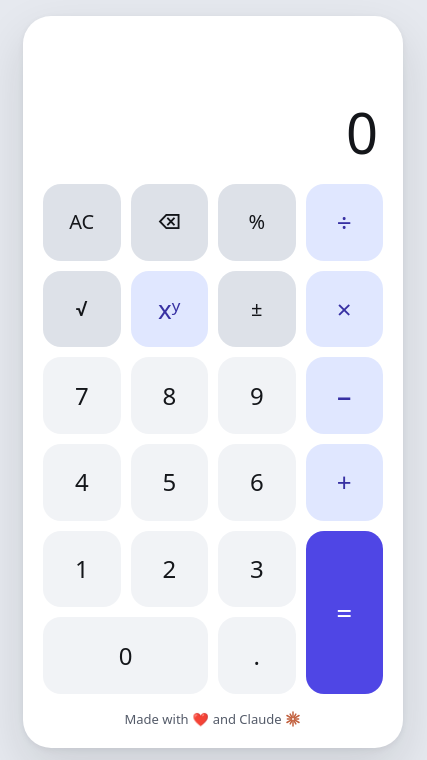
Calculator › 2 + 3 × 4 = gives {}
The width and height of the screenshot is (427, 760).
Click the button "2" at (169, 569), box 130,531 -> 208,607
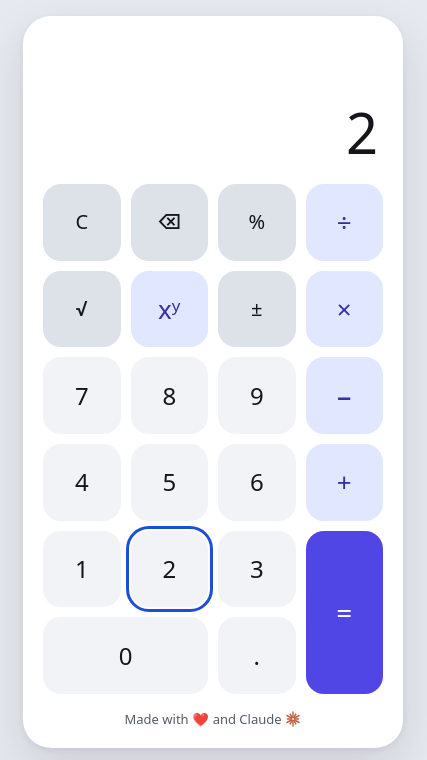
Click the button named "add" at (344, 482), box 306,444 -> 383,521
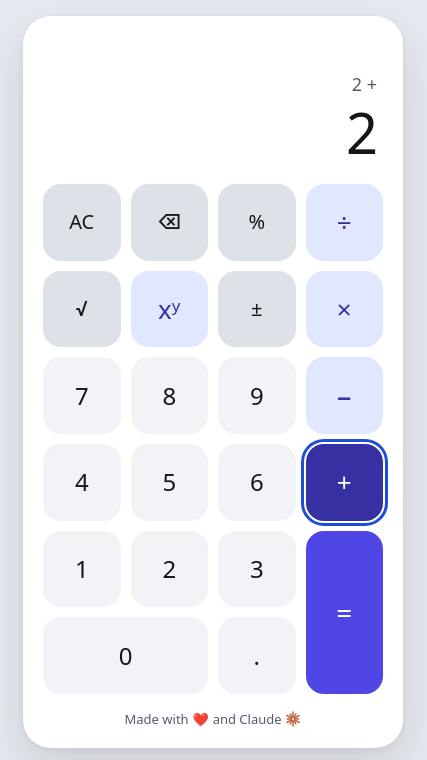
Click the button "3" at (257, 569), box 218,531 -> 296,607
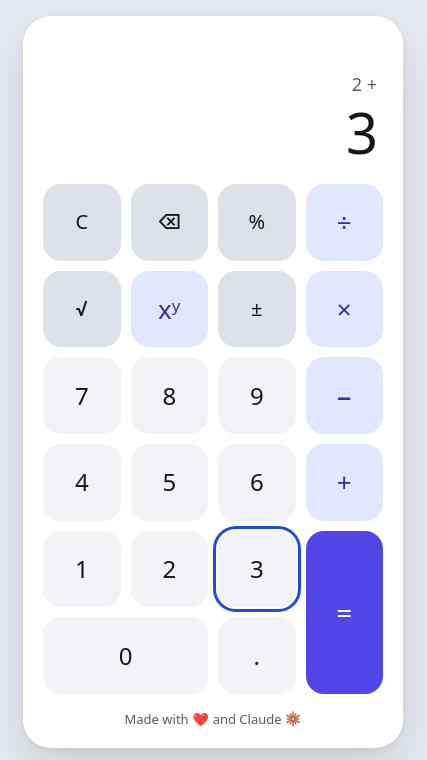
Click the button named "multiply" at (344, 309), box 306,271 -> 383,347
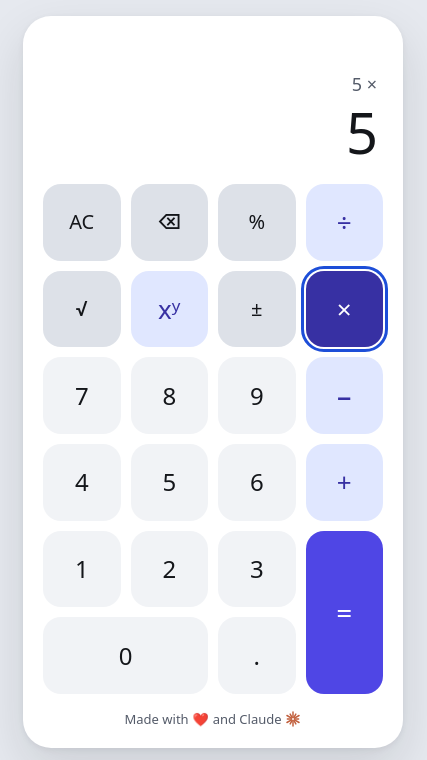
Click the button "4" at (82, 482), box 43,444 -> 120,521
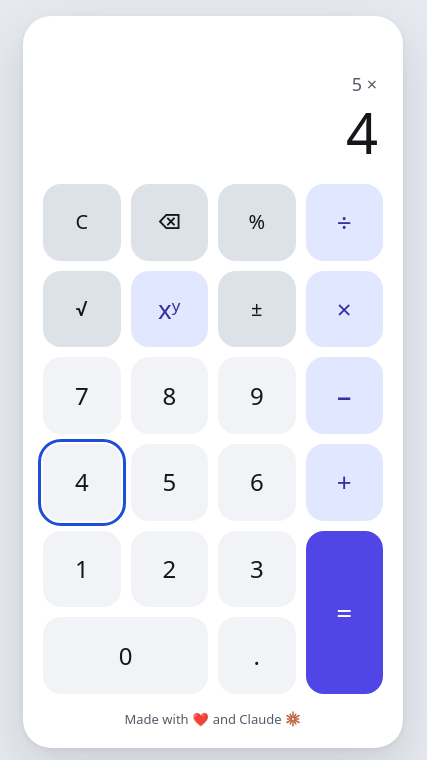
Click the button named "equals" at (344, 612), box 306,531 -> 383,694
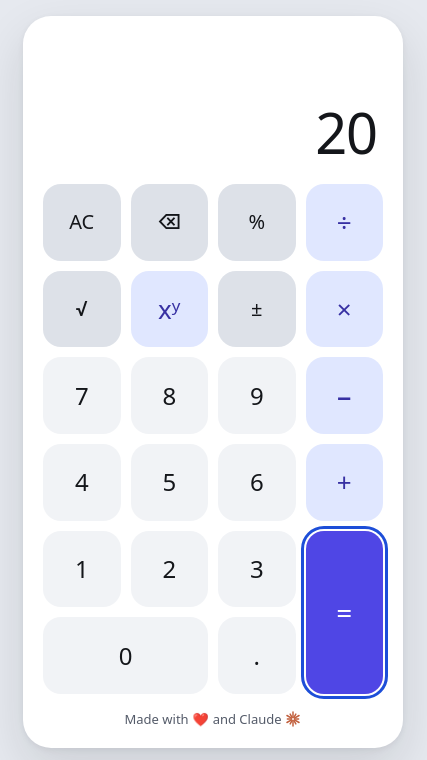
Expected: the text "20" is shown, 315,102 -> 377,164
